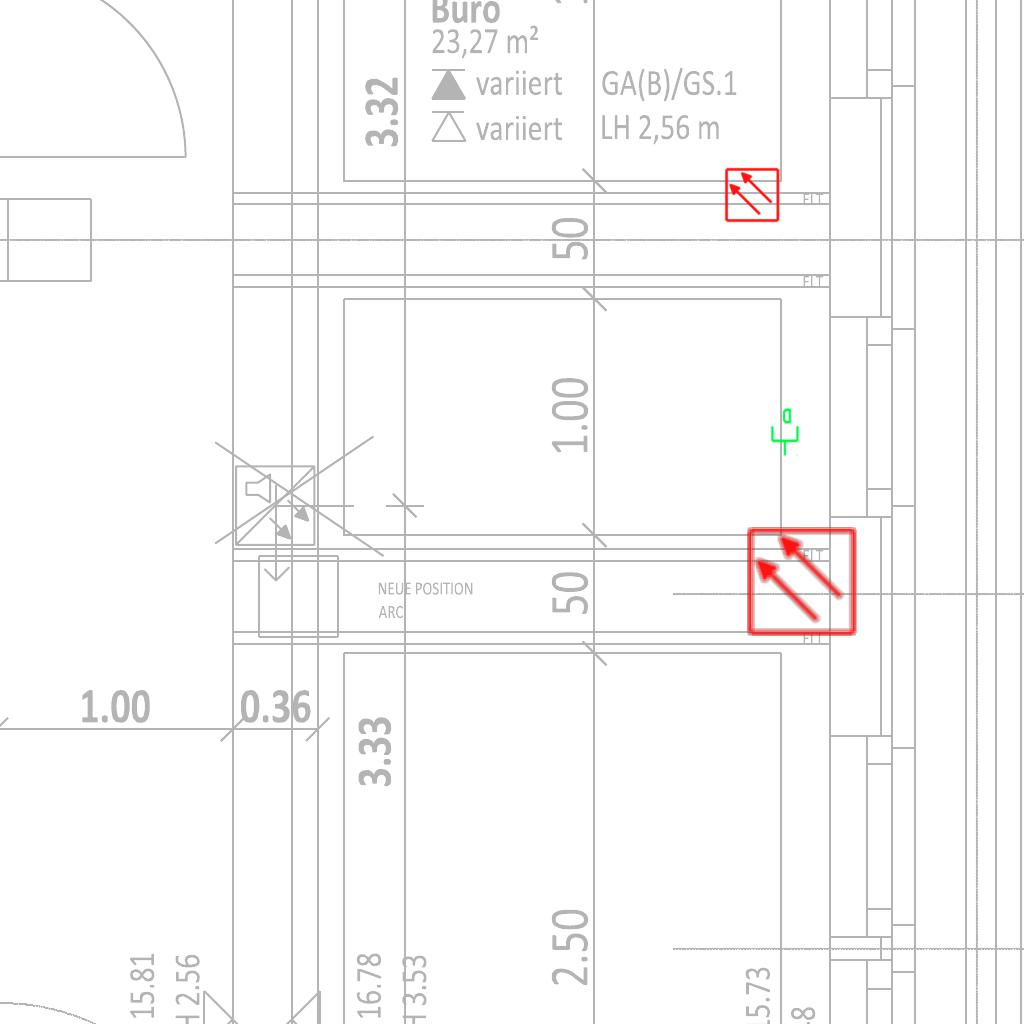Datenanschluss_einfach: (767, 407, 801, 457)
RMO_Rauchmelder_optischer: (745, 525, 858, 638), (724, 167, 780, 223)
